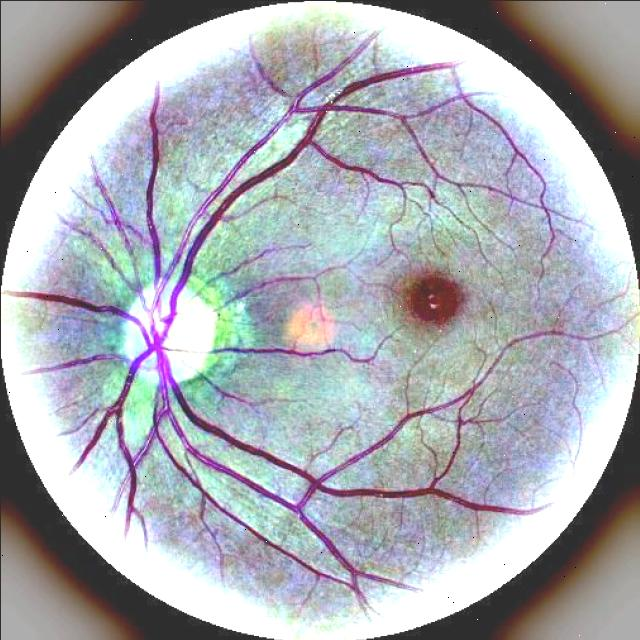Macula: (388, 251, 479, 337)
Nerves: (138, 54, 373, 351), (142, 314, 388, 586)
Optic Disk: (96, 253, 243, 383)
